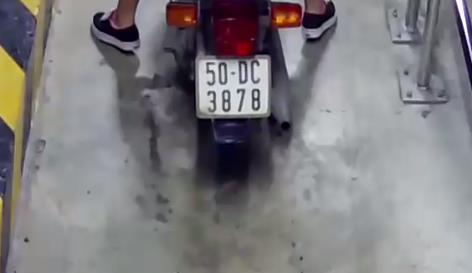lisence: (196, 55, 270, 118)
